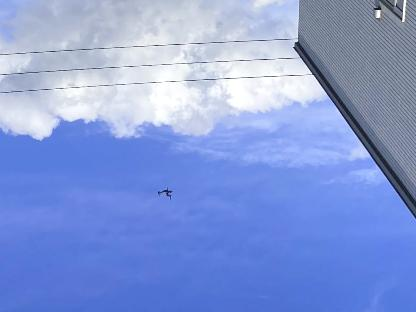Tornado: (157, 187, 173, 201)
